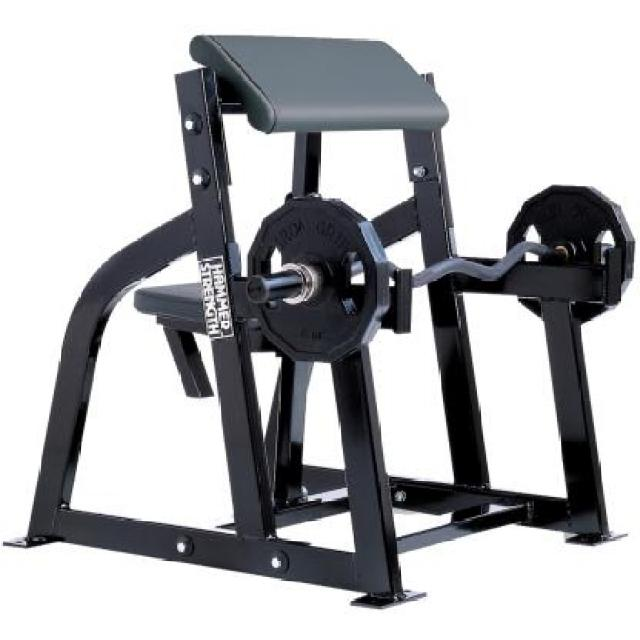arm curl machine: (4, 34, 630, 609)
